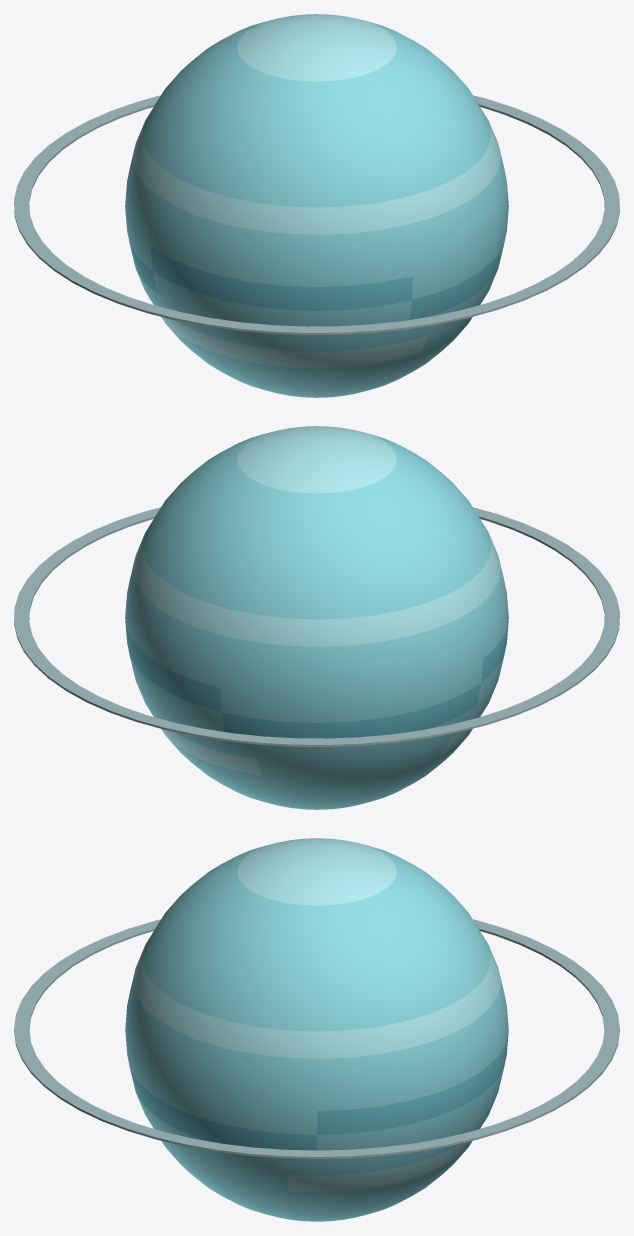
Rendered from ice_giant.glb.
3 views of the same model, one above another, from view 1: azimuth 30°, elevation 25°; view 2: azimuth 150°, elevation 25°; view 3: azimuth 270°, elevation 25° (orthographic).
Visible parts, largest first — view 1: body; view 2: body; view 3: body.
Part boxes in pixels (x1,y1,x2,y2): body: (14, 14, 619, 397); body: (14, 426, 619, 809); body: (14, 838, 619, 1221).
Size of the model in its own units: 316 by 200 by 316.
